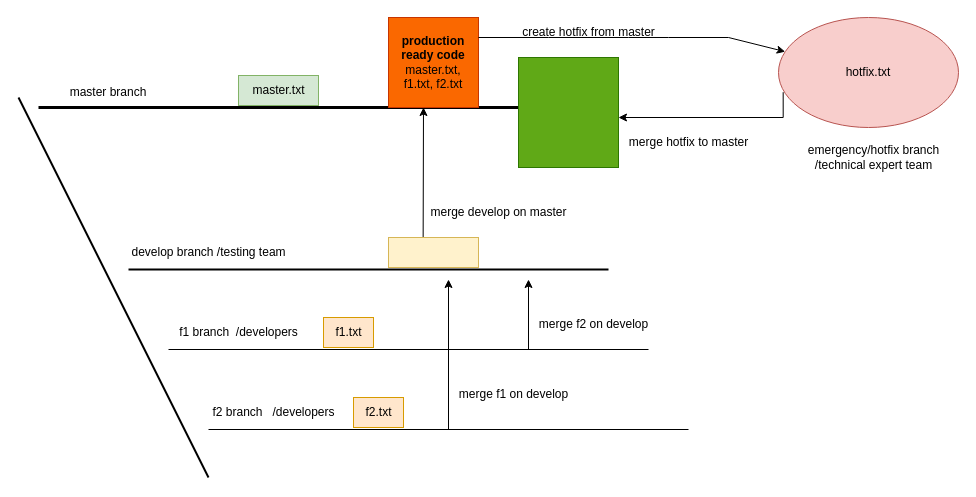
The diagram is 976 pixels wide and 497 high, and some of its shapes have lost their labels. Here are the shapes that lost their labels. From the top down, the centre of each, then its label:
At pixel 568 112: "Final code master.txt f1.txt f2.txt hotfix.txt".
At pixel 433 252: "f1.txt , f2.txt".
